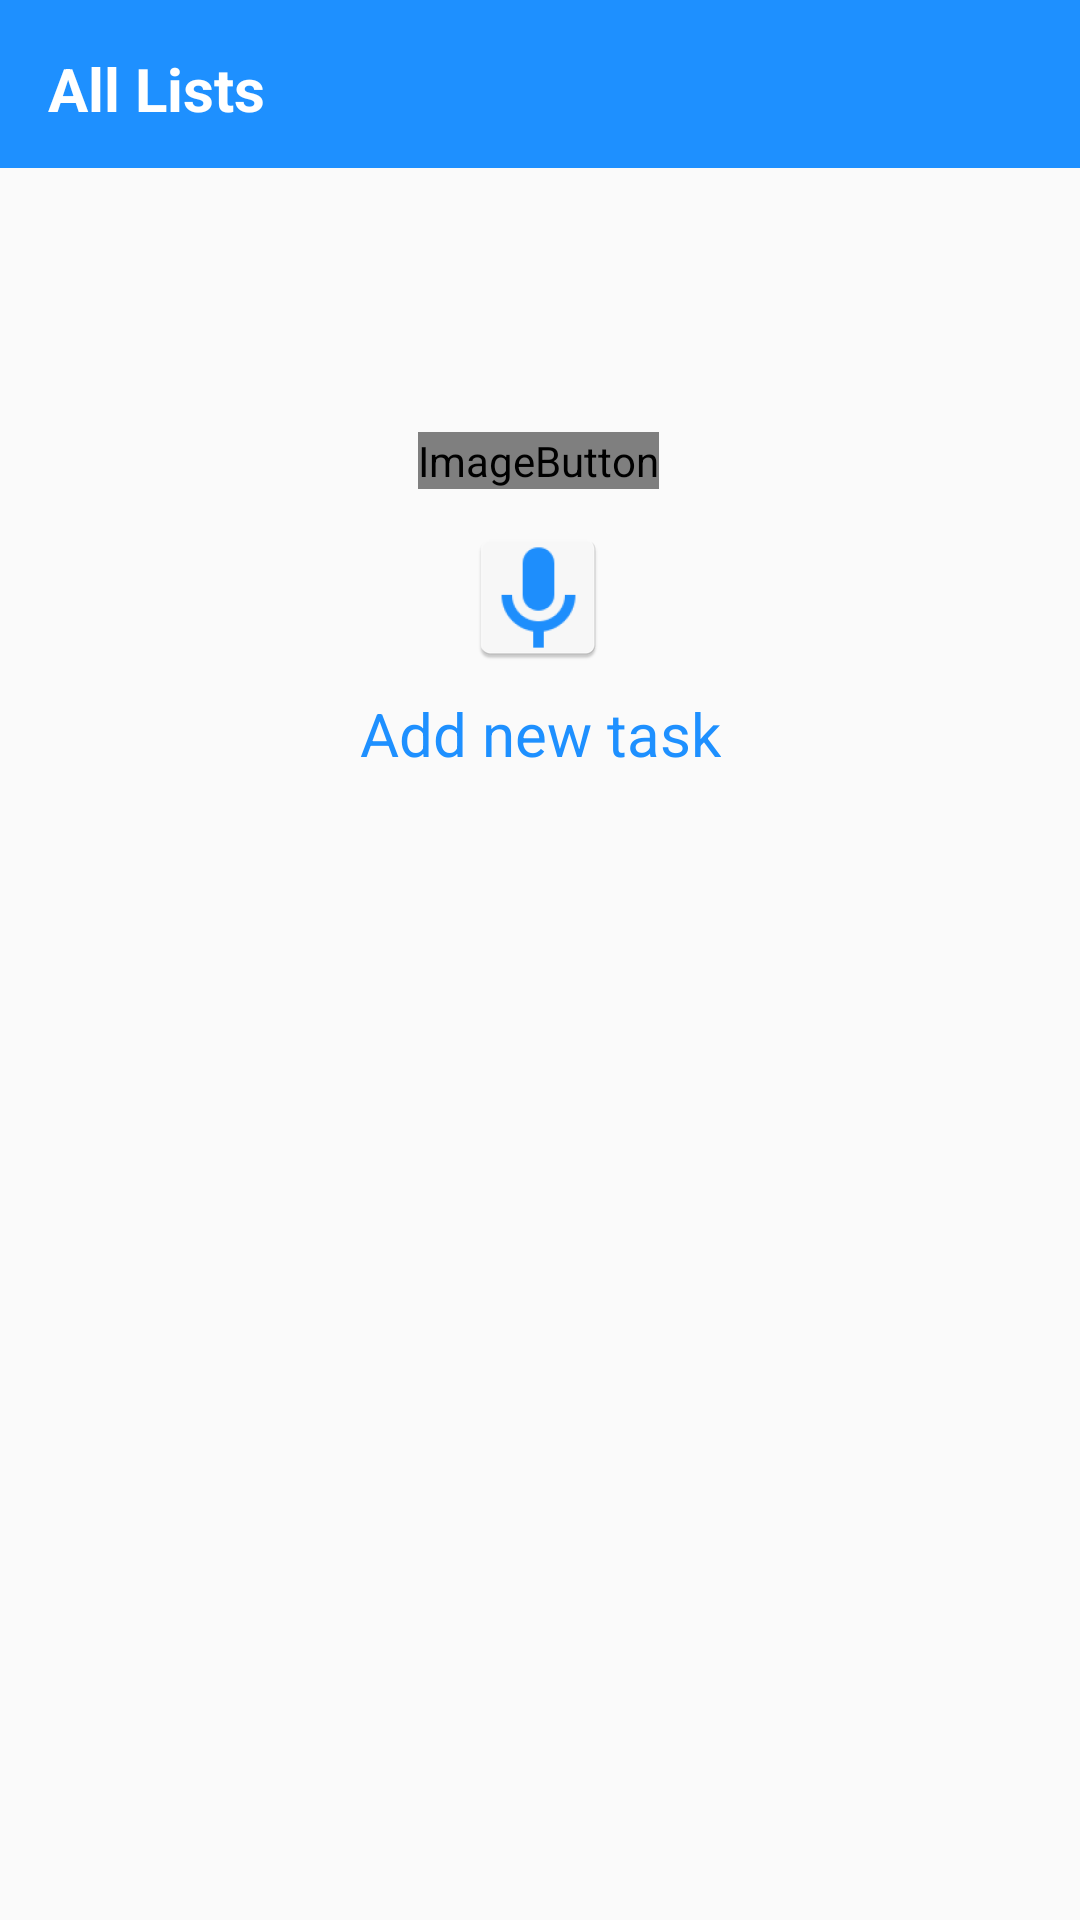

Icons on this 1080×1920 Android screen, each with the point to tap as [x,y]:
Voice add tasks: [538,602]
